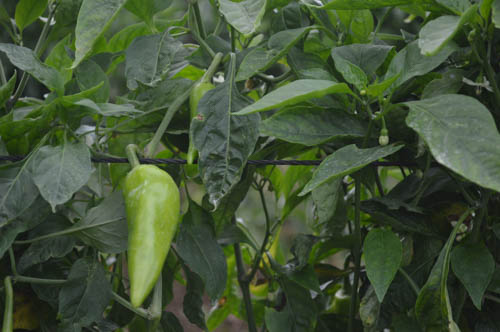ChiliPepper: (119, 165, 182, 314), (185, 86, 215, 169)
